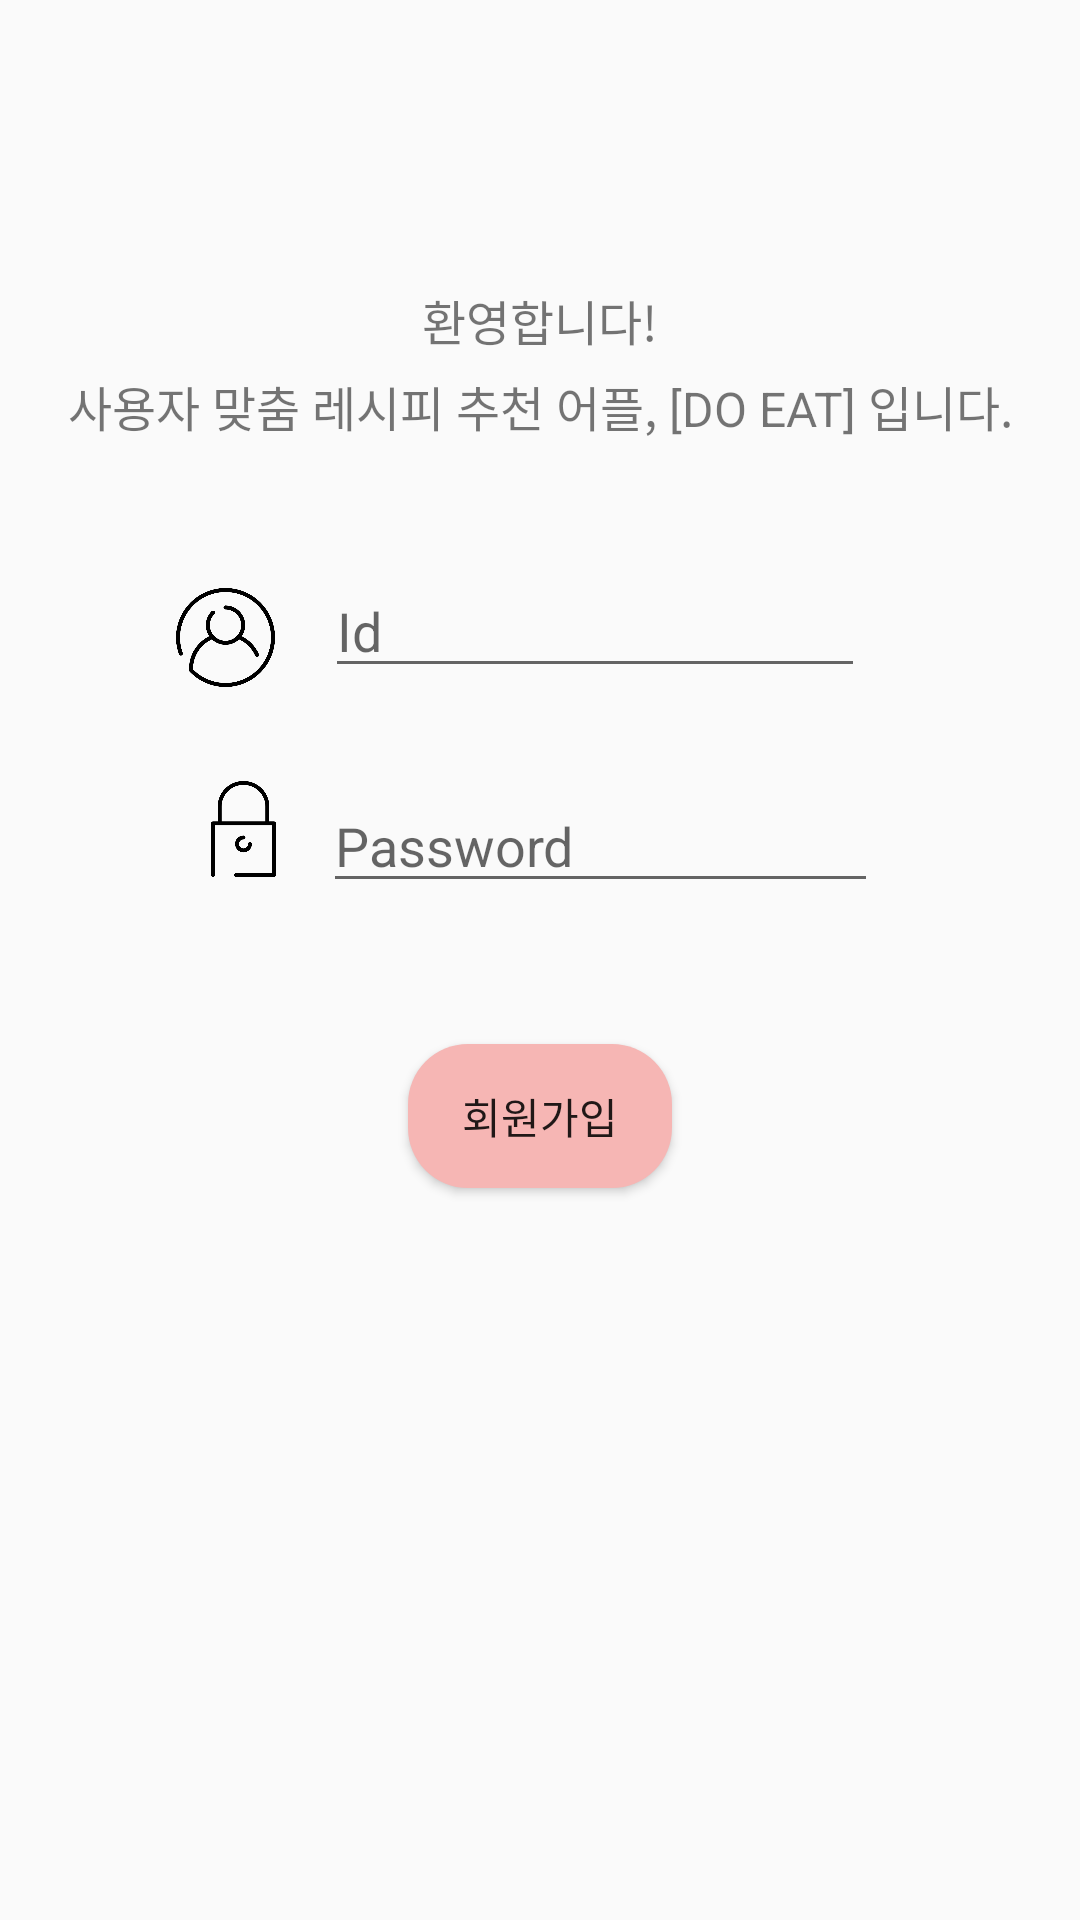

Icons on this 1080px x 1920px Android screen, each with its box as (x1, y1, x2, y2):
padlock: (211, 781, 276, 877)
user: (176, 588, 275, 687)
